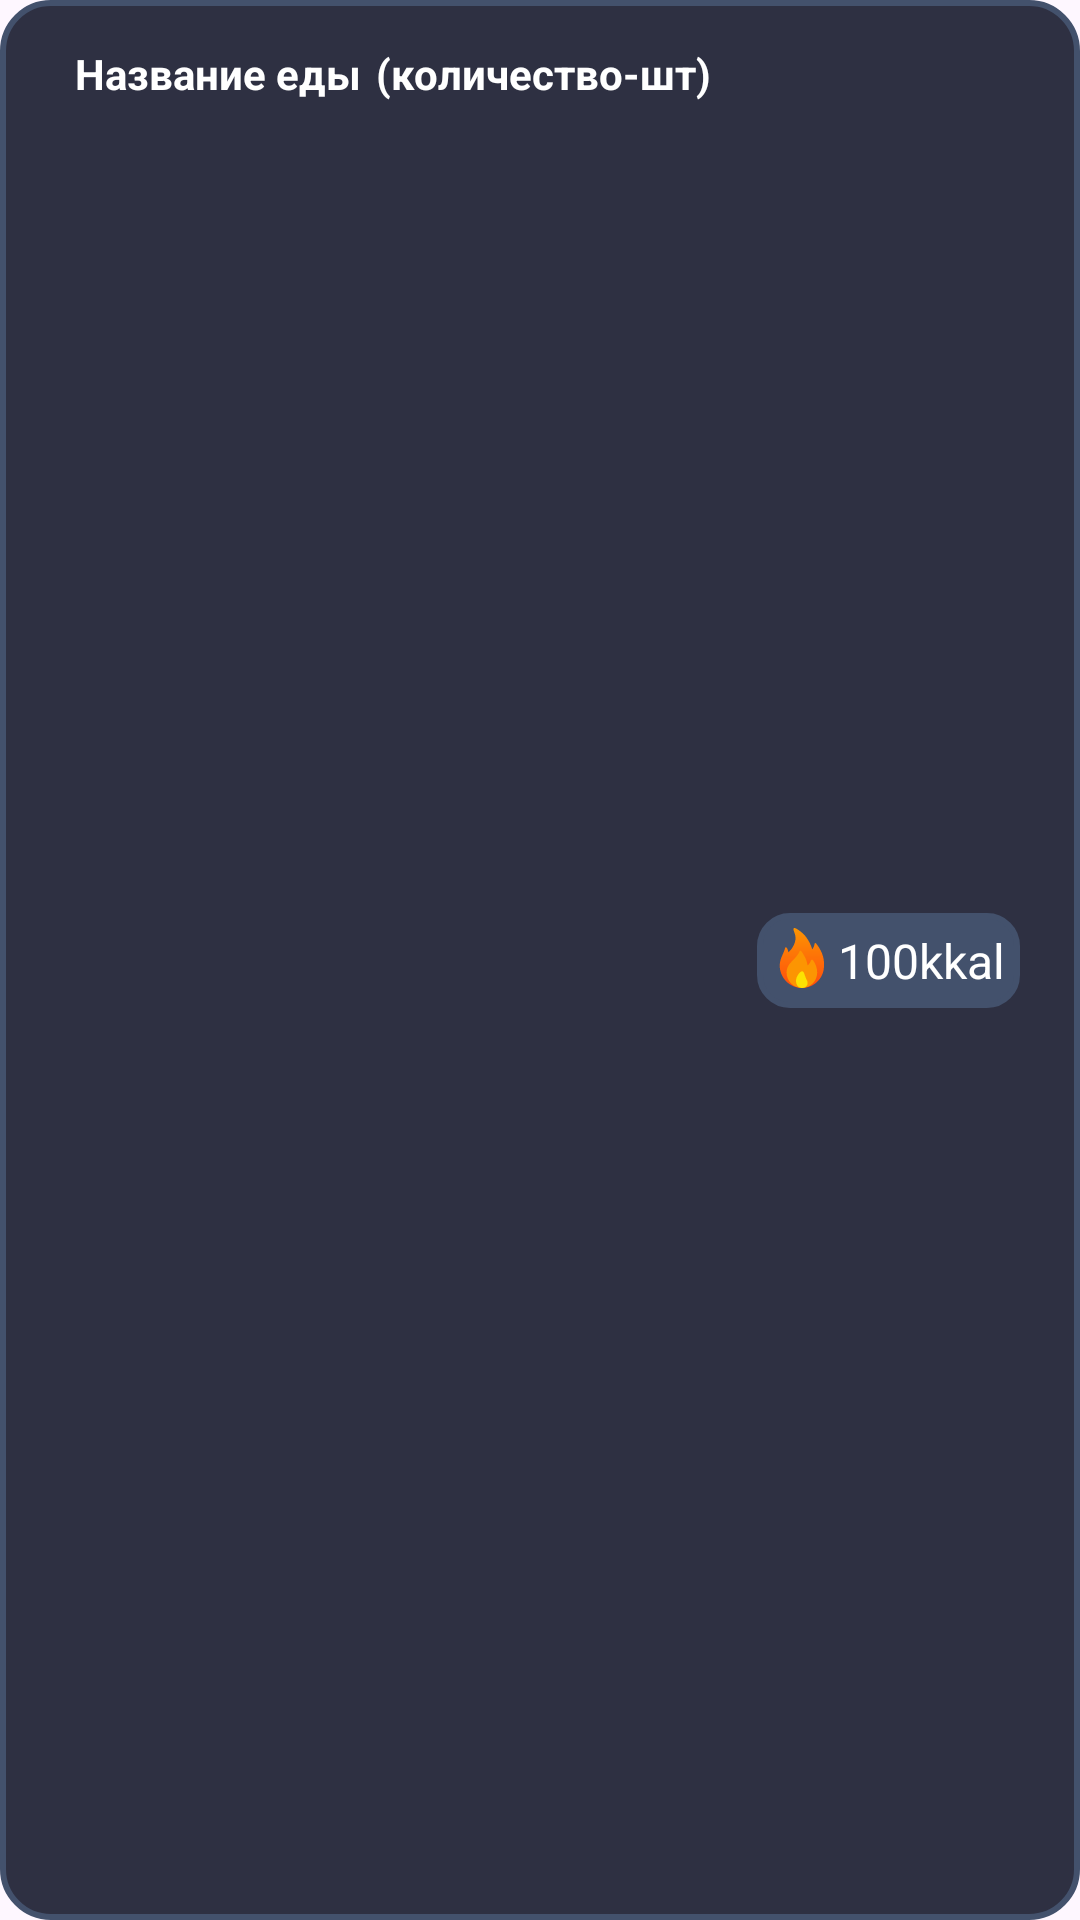

Named icons in this screenshot (1080w x 1920h) and their centers, [x,y]:
fire kkal: [801,958]
